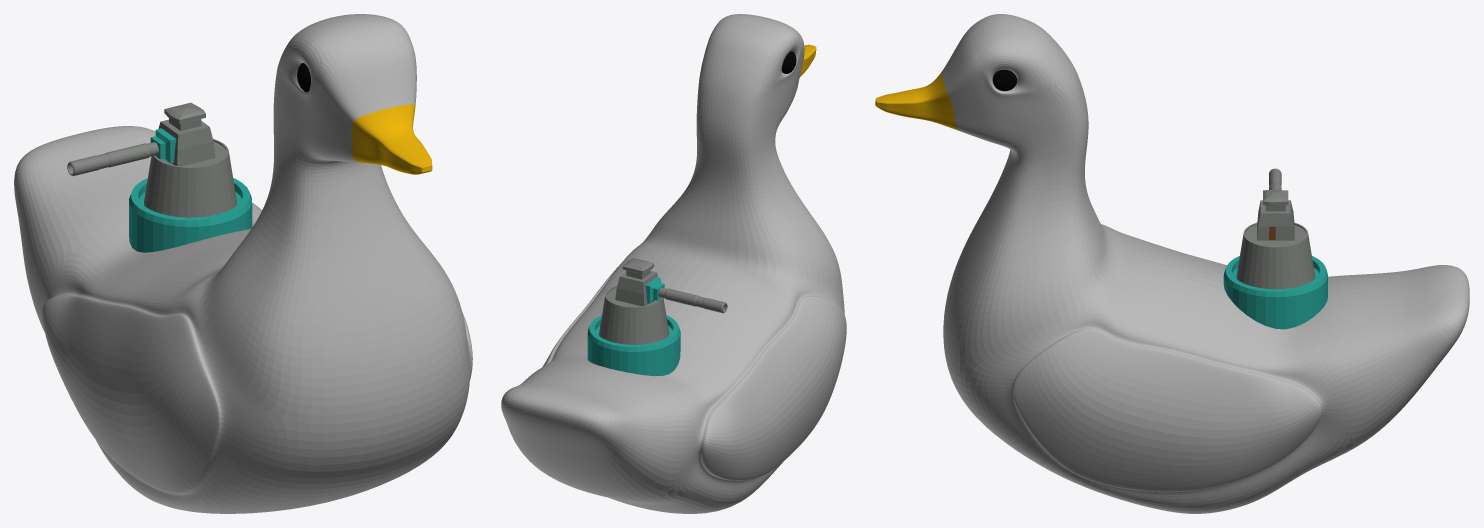
Rendered from Goose.fbx.
3 views of the same model, side by side, from view 1: azimuth 30°, elevation 25°; view 2: azimuth 150°, elevation 25°; view 3: azimuth 270°, elevation 25° (orthographic). The views are drawn at different scales.
Parts seen in each view (by area): view 1: Cube, Circle.001, Circle, Plane, Circle.003, Plane.001; view 2: Cube, Circle, Circle.001, Plane, Circle.003; view 3: Cube, Circle, Circle.001, Plane.
Part boxes in pixels (bbox=[...]): Cube: bbox=[14, 14, 472, 513]; Circle.001: bbox=[144, 139, 236, 217]; Circle: bbox=[129, 178, 252, 252]; Plane: bbox=[158, 102, 215, 166]; Circle.003: bbox=[67, 142, 158, 176]; Plane.001: bbox=[150, 128, 176, 163]; Cube: bbox=[501, 14, 846, 513]; Circle: bbox=[587, 315, 680, 376]; Circle.001: bbox=[599, 285, 669, 344]; Plane: bbox=[615, 258, 658, 306]; Circle.003: bbox=[658, 287, 727, 313]; Cube: bbox=[875, 14, 1469, 513]; Circle: bbox=[1223, 256, 1327, 329]; Circle.001: bbox=[1236, 222, 1315, 289]; Plane: bbox=[1257, 189, 1294, 240].
Size of the model in its own units: 101 by 178 by 206.
